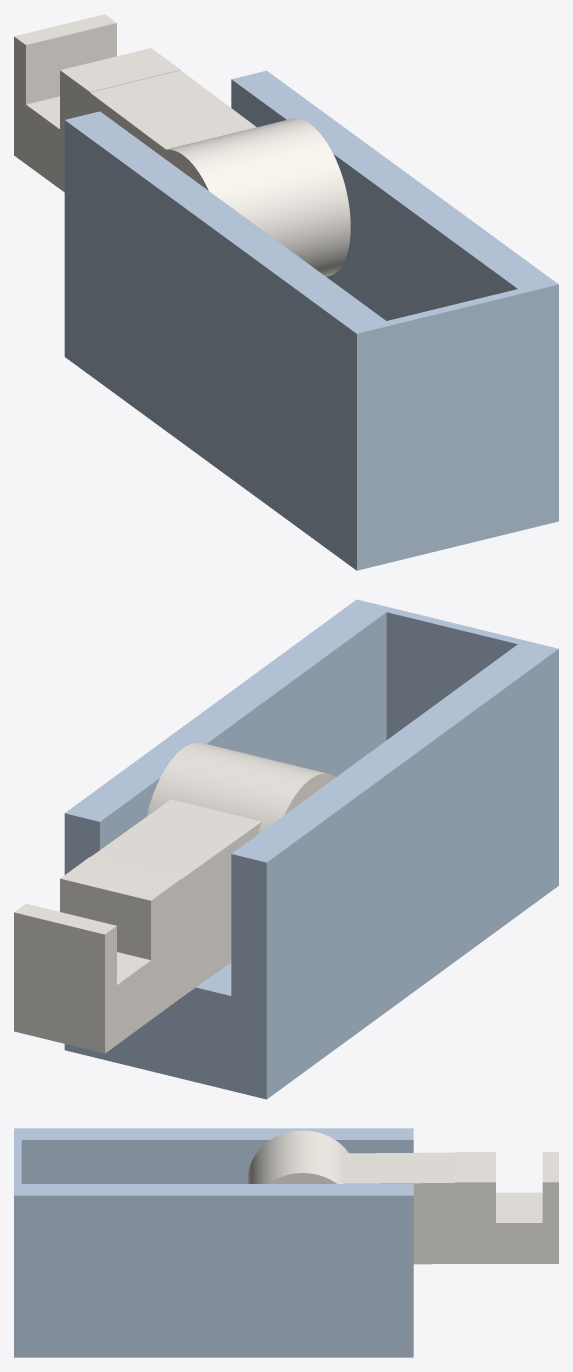
File: original.glb
3 views of the same model, one above another, from view 1: azimuth 30°, elevation 25°; view 2: azimuth 150°, elevation 25°; view 3: azimuth 270°, elevation 25° (orthographic). The views are drawn at different scales.
Parts seen in each view (by area): view 1: connector, moving; view 2: connector, moving; view 3: connector, moving.
Boxes of the visible parts, x1=… form: connector: x1=64, y1=70, x2=558, y2=570; moving: x1=14, y1=14, x2=350, y2=276; connector: x1=64, y1=599, x2=558, y2=1099; moving: x1=14, y1=742, x2=335, y2=1053; connector: x1=14, y1=1128, x2=413, y2=1357; moving: x1=247, y1=1130, x2=558, y2=1264.
Bounding box in the file's own units: 17.86 × 21.26 × 60.96.
